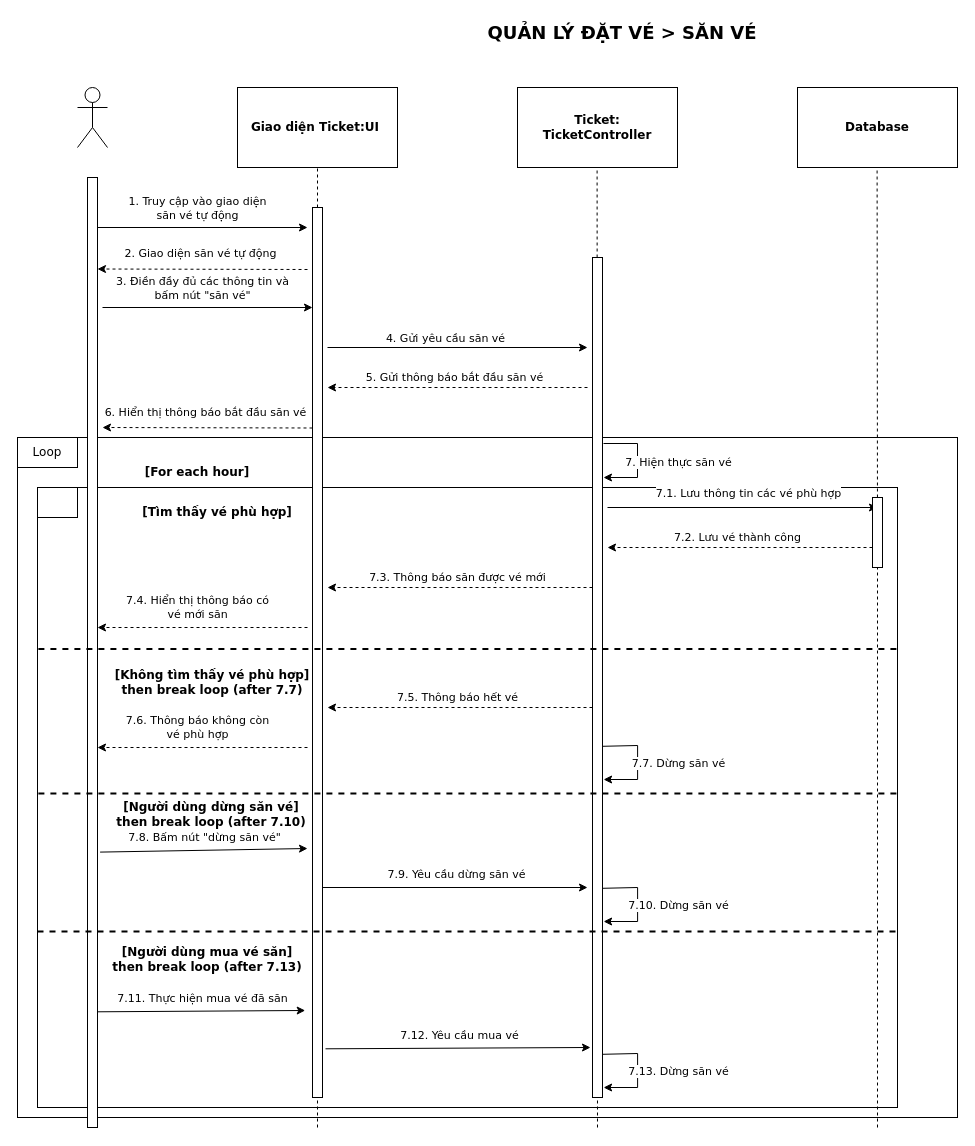
This 975x1146 diagram has some shape labels left out. The shapes that lost their labels are listed below. From the top down, each one's centre as x and y in pixels, then its label:
At point 92,117: "User".
At point 57,502: "Alt".
